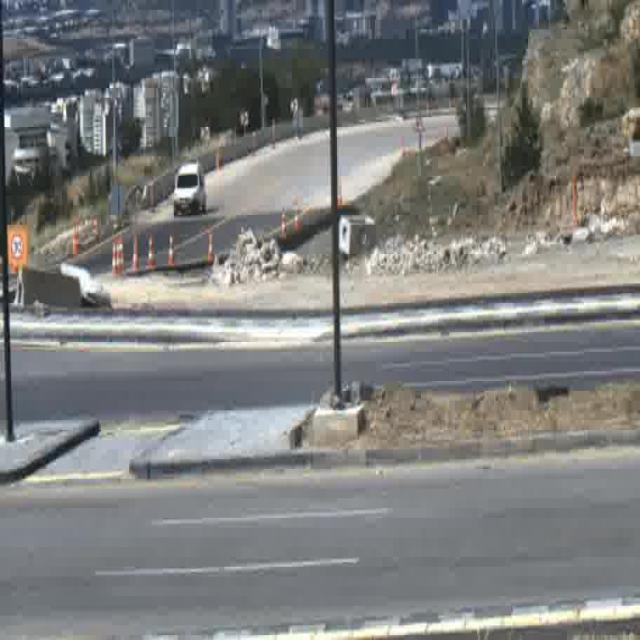Car: (174, 164, 205, 220)
